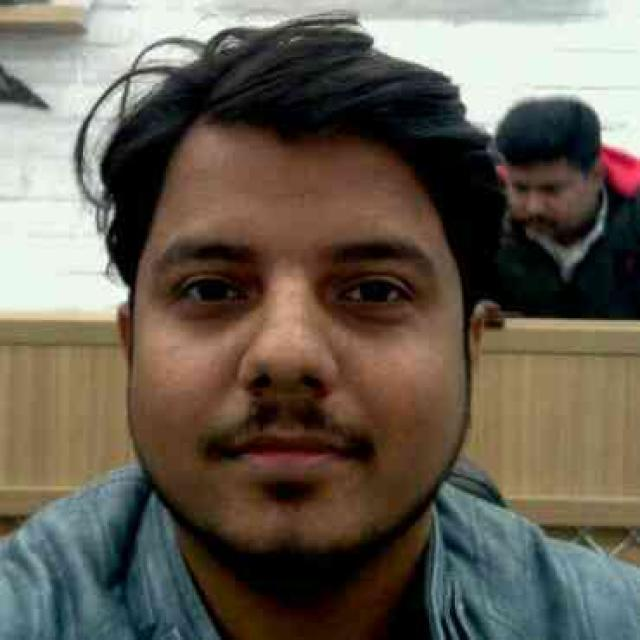puffy_eyes: (331, 304, 422, 323), (328, 306, 379, 336)
